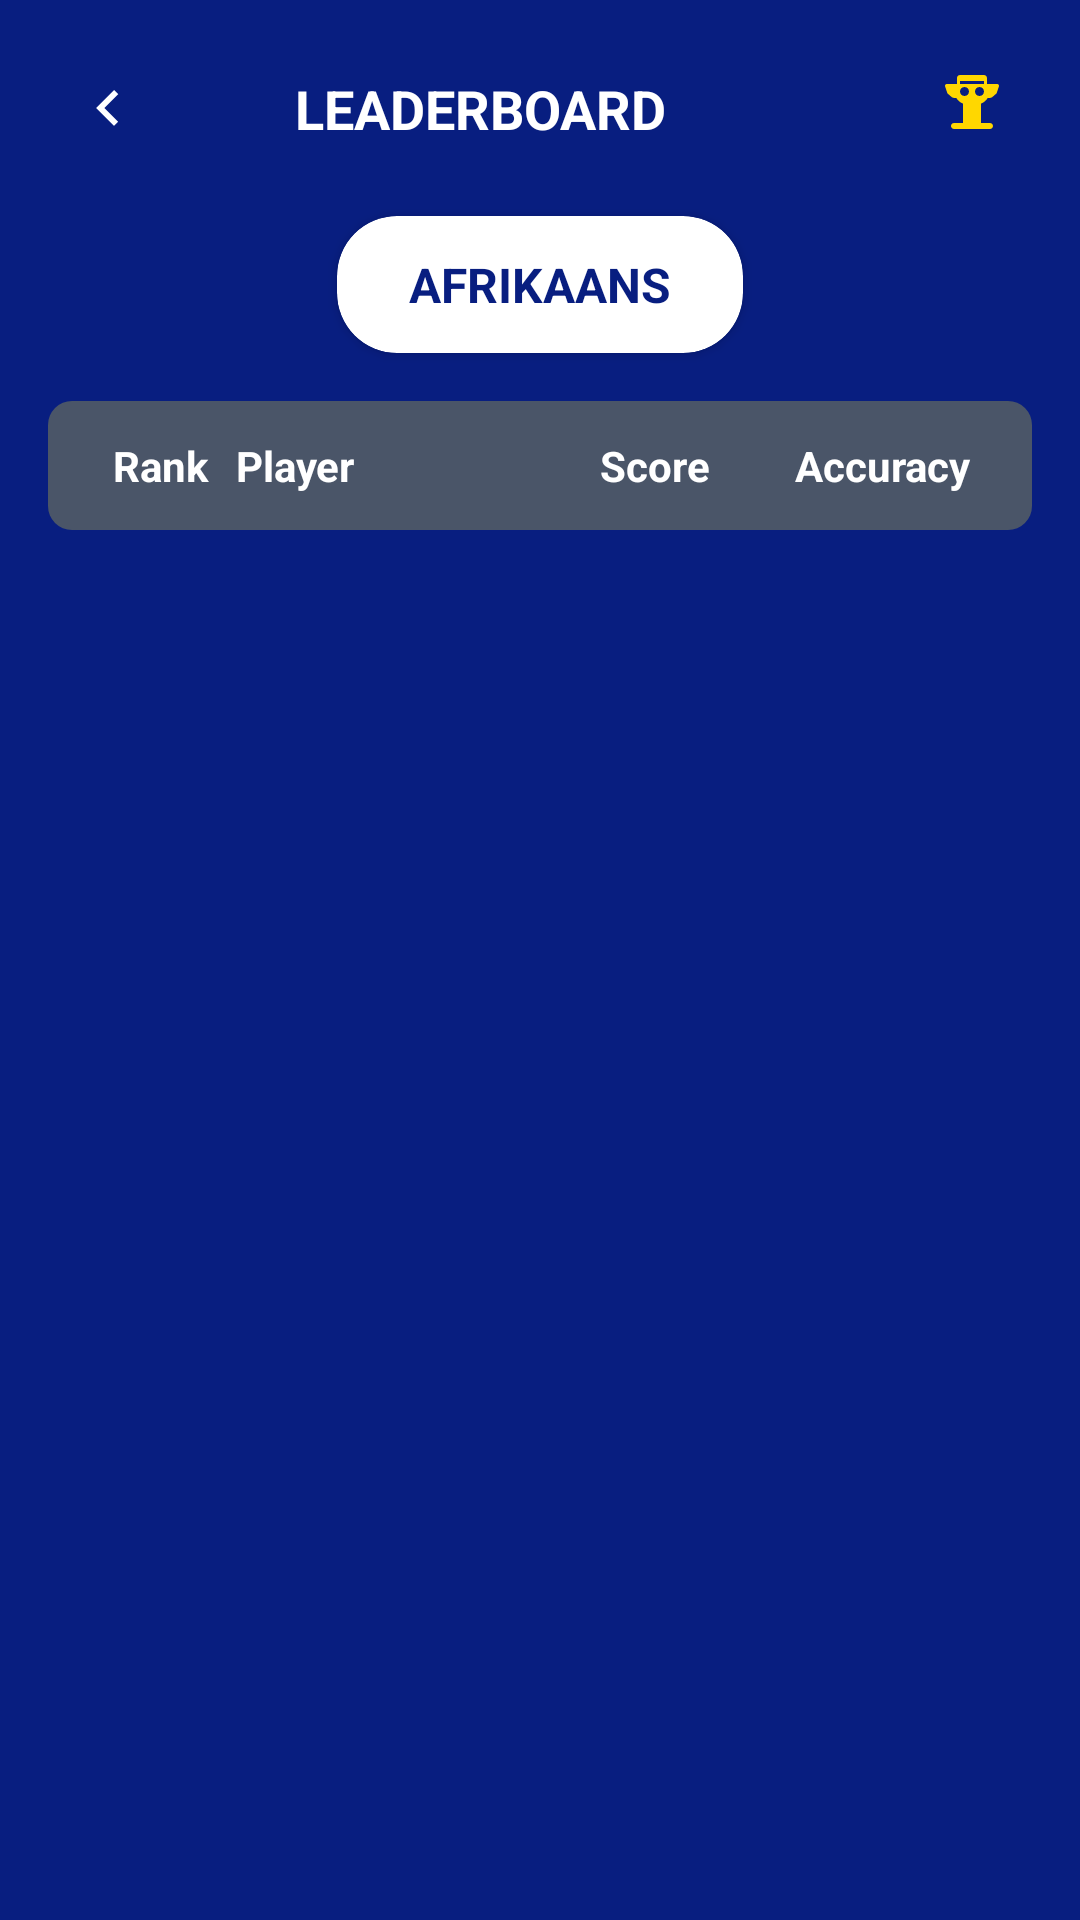

Icons on this 1080px x 1920px Android screen, each with its box as bbox(x1, y1, x2, y2):
Back: bbox(96, 90, 118, 126)
Trophy: bbox(945, 75, 999, 129)
